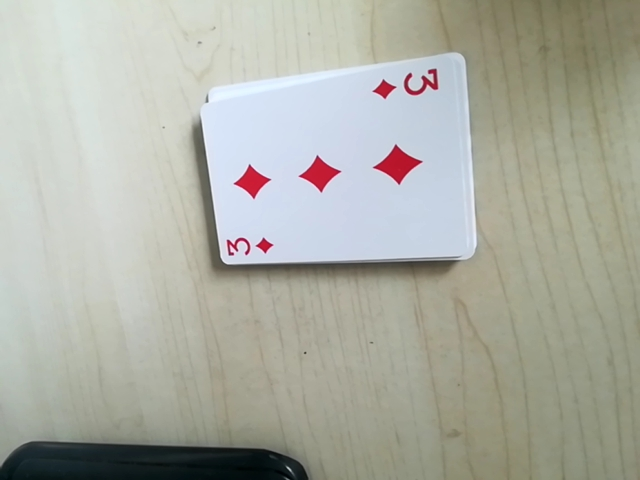fk 3: (370, 62, 447, 105), (221, 230, 276, 263)
